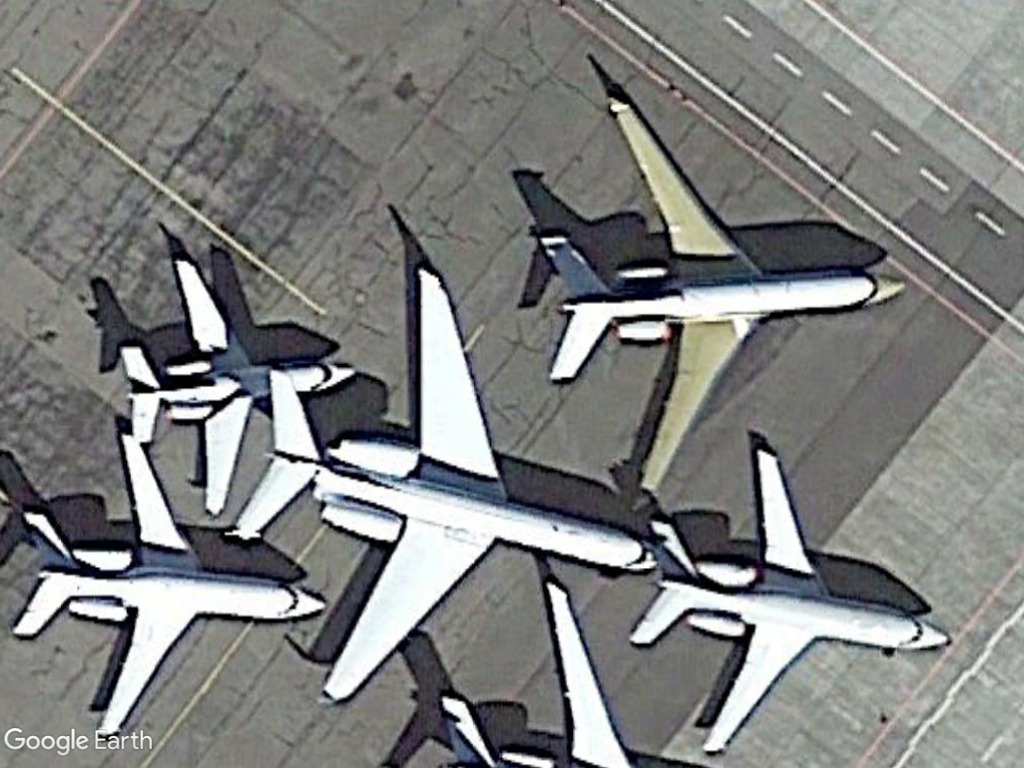chartered: (225, 258, 669, 713), (533, 89, 909, 512), (622, 441, 958, 757), (7, 425, 332, 744), (116, 250, 358, 523)
